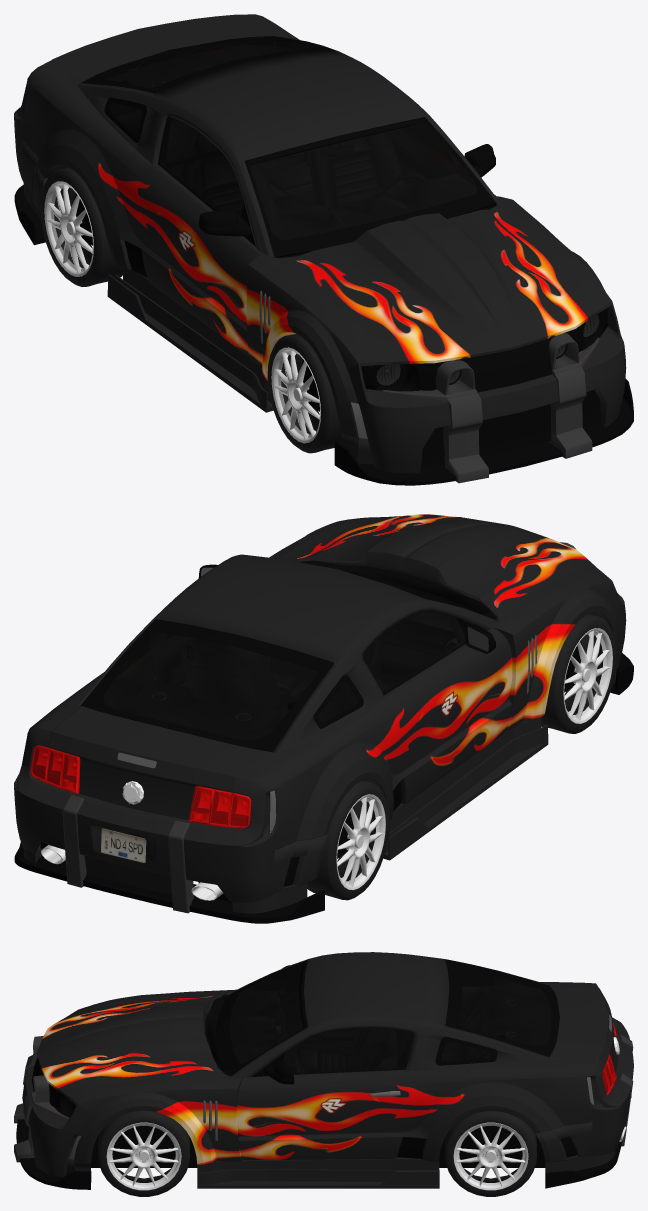
File: mustang_razor.glb
3 renders of one model, top to bottom at view 1: azimuth 30°, elevation 25°; view 2: azimuth 150°, elevation 25°; view 3: azimuth 270°, elevation 25°, orthographic. The views are drawn at different scales.
Parts seen in each view (by area): view 1: BASE_A.002, KIT00_REAR_WINDOW_A.001, KIT04_BODY_A.003, KIT04_BODY_A.007, BASE_A.007, OZ_STYLE01_17_25_A.001, OZ_STYLE01_17_25_A.002, KIT04_BODY_A.006, KIT00_LEFT_SIDE_MIRROR_A, KIT04_BODY_A.005, KIT00_LEFT_HEADLIGHT_A.001; view 2: BASE_A.002, KIT00_REAR_WINDOW_A.001, OZ_STYLE01_17_25_A.001, BASE_A.007, OZ_STYLE01_17_25_A.002, KIT04_BODY_A.006, KIT00_LEFT_HEADLIGHT_A.006, KIT04_BODY_A.003, BASE_A.004, KIT00_LEFT_BRAKELIGHT_A.002, KIT00_LEFT_BRAKELIGHT_A, KIT00_LEFT_HEADLIGHT_A.005 (+3 smaller); view 3: BASE_A.002, KIT00_REAR_WINDOW_A.001, OZ_STYLE01_17_25_A.001, OZ_STYLE01_17_25_A.002, BASE_A.007, KIT04_BODY_A.002, KIT04_BODY_A.006, KIT04_BODY_A.003, BASE_A.004, KIT04_BODY_A.023, KIT00_LEFT_SIDE_MIRROR_A, KIT04_BODY_A.005.
Boxes of the visible parts, x1,y1,x2,y2 form: BASE_A.002: (14, 14, 626, 473); KIT00_REAR_WINDOW_A.001: (103, 38, 477, 240); KIT04_BODY_A.003: (383, 333, 599, 483); KIT04_BODY_A.007: (416, 323, 601, 467); BASE_A.007: (81, 36, 495, 257); OZ_STYLE01_17_25_A.001: (40, 167, 342, 453); OZ_STYLE01_17_25_A.002: (44, 181, 320, 443); KIT04_BODY_A.006: (14, 185, 633, 485); KIT00_LEFT_SIDE_MIRROR_A: (198, 144, 495, 236); KIT04_BODY_A.005: (361, 308, 607, 391); KIT00_LEFT_HEADLIGHT_A.001: (376, 314, 600, 388); BASE_A.002: (14, 514, 626, 913); KIT00_REAR_WINDOW_A.001: (103, 561, 476, 740); OZ_STYLE01_17_25_A.001: (307, 614, 616, 900); BASE_A.007: (80, 574, 486, 752); OZ_STYLE01_17_25_A.002: (336, 628, 612, 890); KIT04_BODY_A.006: (14, 653, 633, 923); KIT00_LEFT_HEADLIGHT_A.006: (31, 746, 249, 826); KIT04_BODY_A.003: (62, 517, 575, 913); BASE_A.004: (300, 560, 496, 619); KIT00_LEFT_BRAKELIGHT_A.002: (36, 747, 248, 821); KIT00_LEFT_BRAKELIGHT_A: (32, 747, 248, 825); KIT00_LEFT_HEADLIGHT_A.005: (30, 745, 251, 828); BASE_A.002: (22, 952, 633, 1188); KIT00_REAR_WINDOW_A.001: (228, 963, 554, 1074); OZ_STYLE01_17_25_A.001: (98, 1110, 537, 1196); OZ_STYLE01_17_25_A.002: (106, 1122, 528, 1190); BASE_A.007: (215, 959, 559, 1076); KIT04_BODY_A.002: (91, 1126, 545, 1167); KIT04_BODY_A.006: (16, 1119, 621, 1189); KIT04_BODY_A.003: (14, 1034, 633, 1162); BASE_A.004: (205, 995, 230, 1075); KIT04_BODY_A.023: (397, 1136, 577, 1158); KIT00_LEFT_SIDE_MIRROR_A: (263, 965, 294, 1084); KIT04_BODY_A.005: (54, 1089, 75, 1117).
Size of the model in its own units: 2.02 by 1.4 by 4.83.
22 materials, 3 textured.
